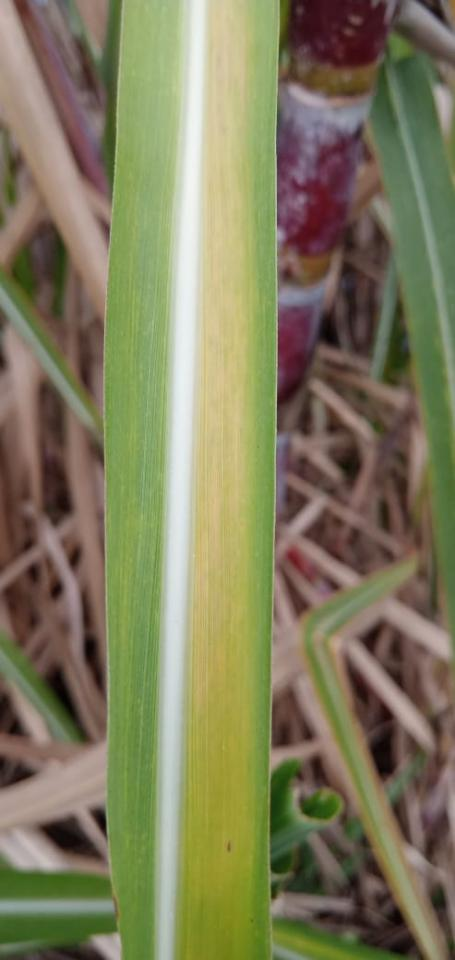Rust: (226, 839, 232, 854)
Yellow: (191, 0, 242, 713)
